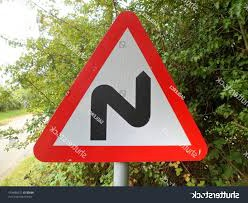Double_bend_right: (32, 8, 210, 164)
